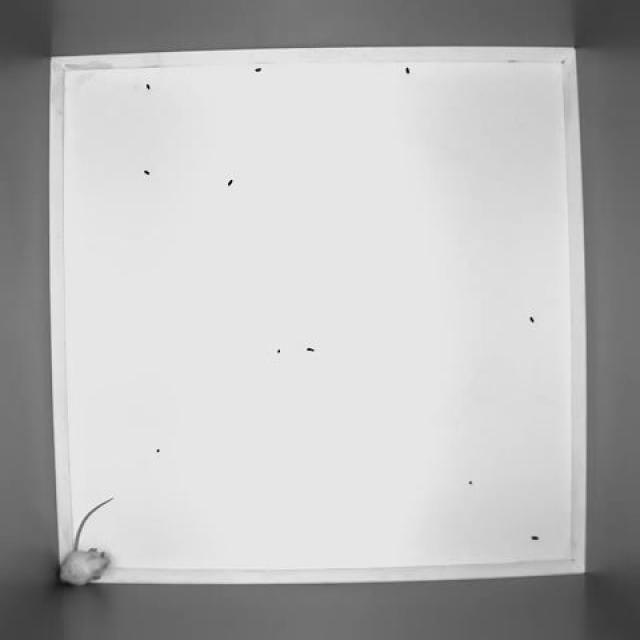rat: (57, 504, 142, 584)
